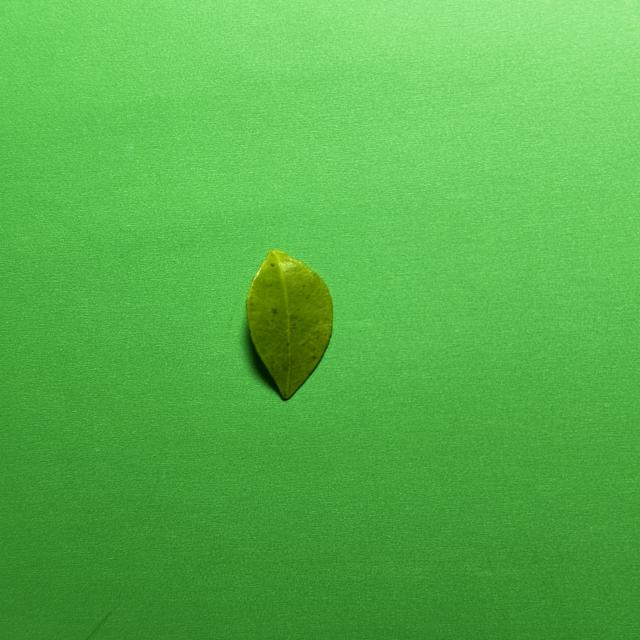greening: (247, 251, 332, 399)
